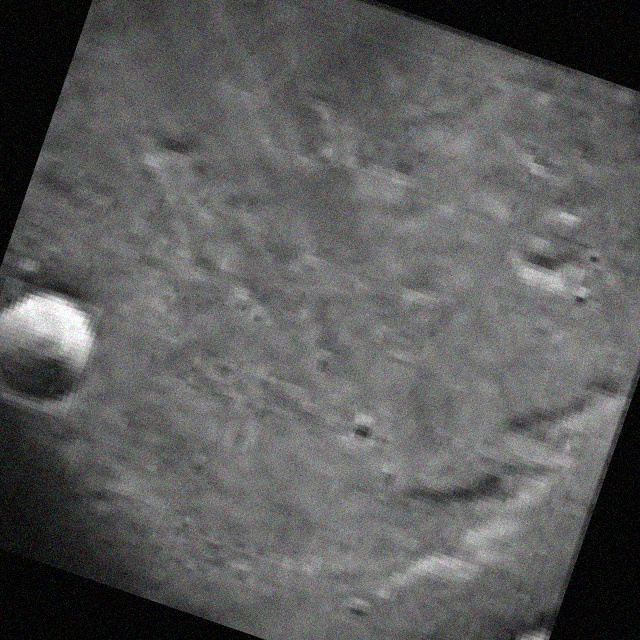crater: (0, 275, 102, 419)
